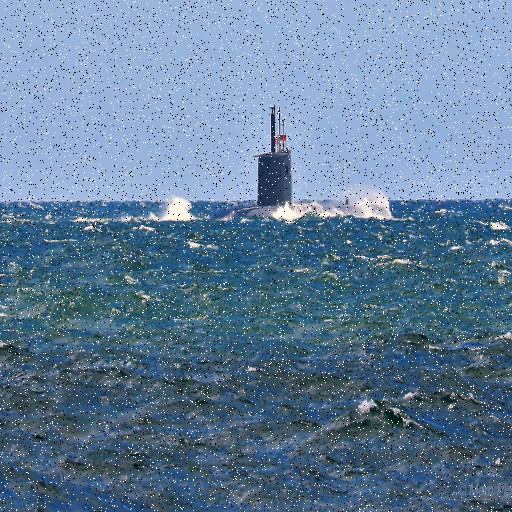submarine: (210, 148, 395, 222)
